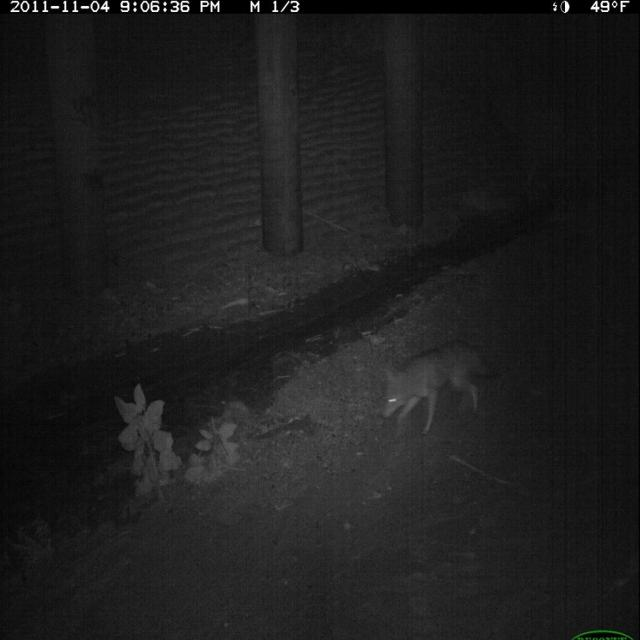coyote: (377, 334, 502, 446)
